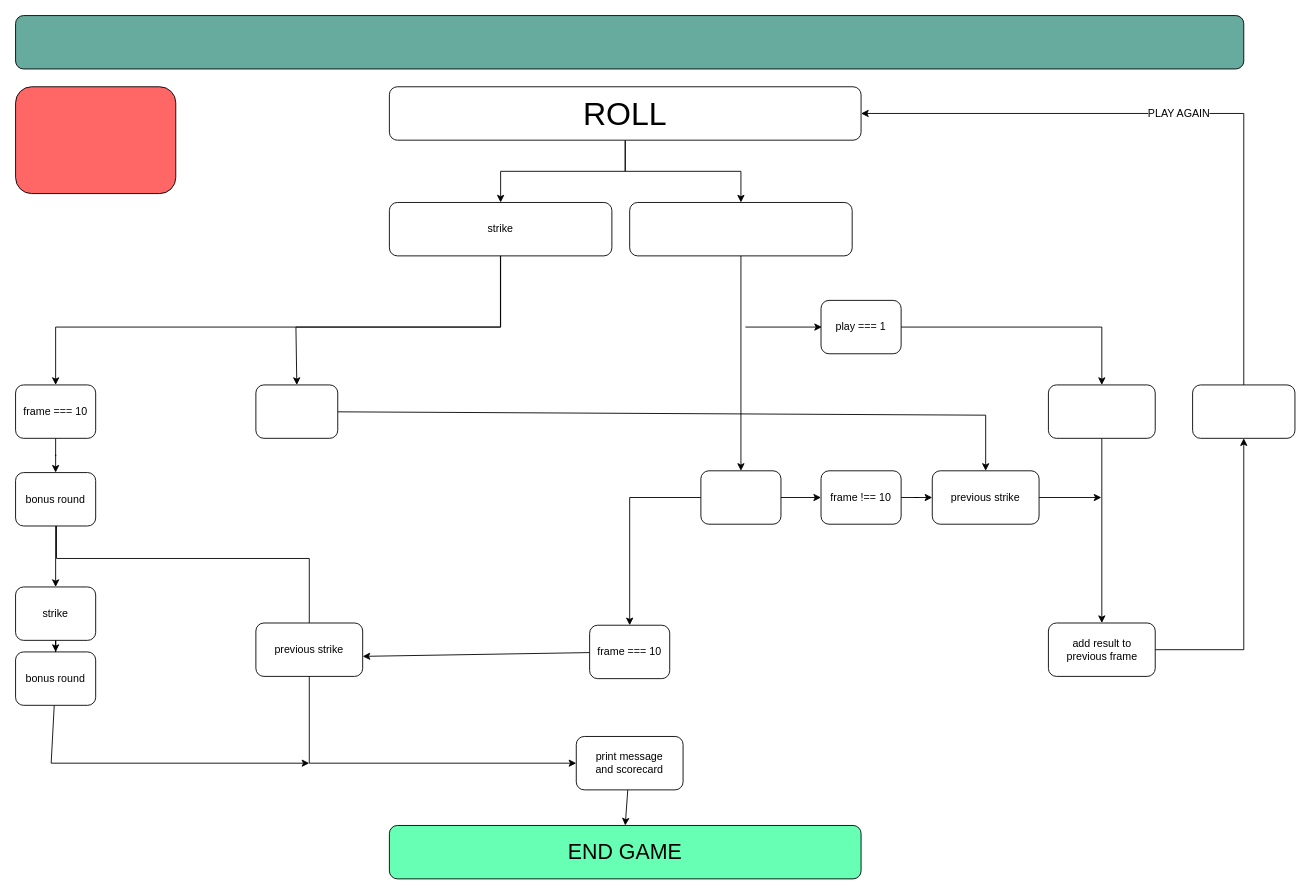
Some shapes in this 1311 by 894 pixel diagram are drawn without their labels. Here are the shapes that lost their labels. From the top down, the centre of each, then its label:
the point at 629,42: Bowling Challenge Diagram
the point at 95,140: frame = Integer play = Integer scorecard = Array
the point at 740,229: no strike
the point at 296,411: frame != 10
the point at 1101,411: previous spare
the point at 1243,411: print scorecard
the point at 740,497: play === 2
